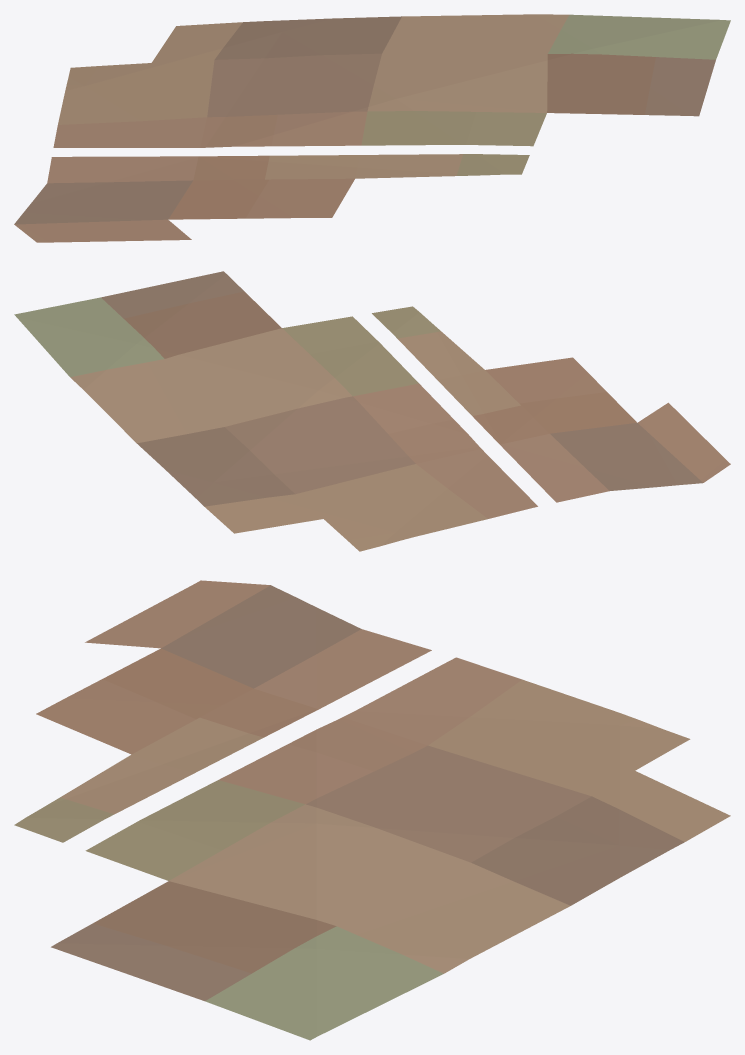
The model's file is farm_-30_-21_soil.glb.
The picture shows the model from 3 angles, top to bottom: view 1: azimuth 30°, elevation 25°; view 2: azimuth 150°, elevation 25°; view 3: azimuth 270°, elevation 25°; orthographic projection. The views are drawn at different scales.
Parts seen in each view (by area): view 1: geometry_0; view 2: geometry_0; view 3: geometry_0.
Part boxes in pixels (x1,y1,x2,y2): geometry_0: (14, 14, 730, 242); geometry_0: (14, 271, 730, 551); geometry_0: (14, 580, 730, 1040).
Size of the model in its own units: 298 by 12.76 by 189.
